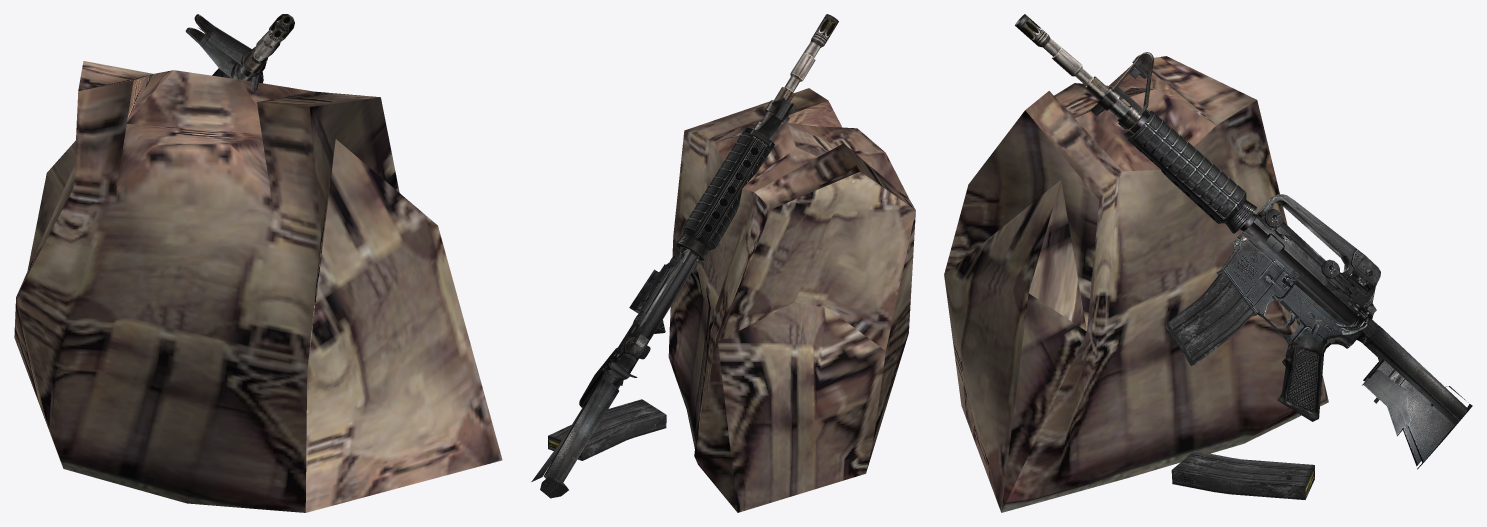
The model's file is cinbpakg.glb.
3 views of the same model, side by side, from view 1: azimuth 30°, elevation 25°; view 2: azimuth 150°, elevation 25°; view 3: azimuth 270°, elevation 25° (orthographic). The views are drawn at different scales.
Parts seen in each view (by area): view 1: _cinbpakg; view 2: _cinbpakg; view 3: _cinbpakg.
Part boxes in pixels (bbox=[...]): _cinbpakg: bbox=[14, 14, 502, 512]; _cinbpakg: bbox=[531, 14, 915, 512]; _cinbpakg: bbox=[944, 14, 1472, 512].
Bounding box in the file's own units: 0.5822 × 0.7223 × 0.8377.
2 materials, 2 textured.
